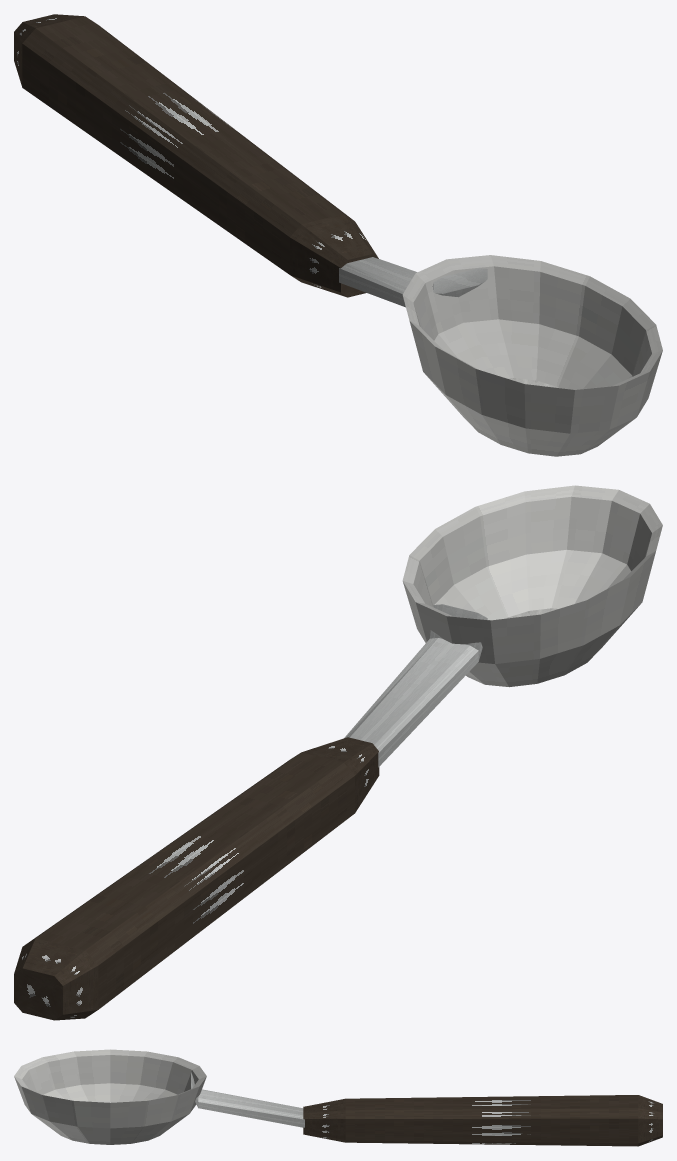
Rendered from spoon.glb.
3 renders of one model, top to bottom at view 1: azimuth 30°, elevation 25°; view 2: azimuth 150°, elevation 25°; view 3: azimuth 270°, elevation 25°, orthographic. The views are drawn at different scales.
Visible parts, largest first — view 1: home_spoon; view 2: home_spoon; view 3: home_spoon.
Part boxes in pixels (x1,y1,x2,y2): home_spoon: [14, 14, 662, 456]; home_spoon: [14, 485, 662, 1020]; home_spoon: [14, 1049, 662, 1146].
Size of the model in its own units: 0.036 by 0.02 by 0.185.
Materials: 1 (1 with a texture image).
